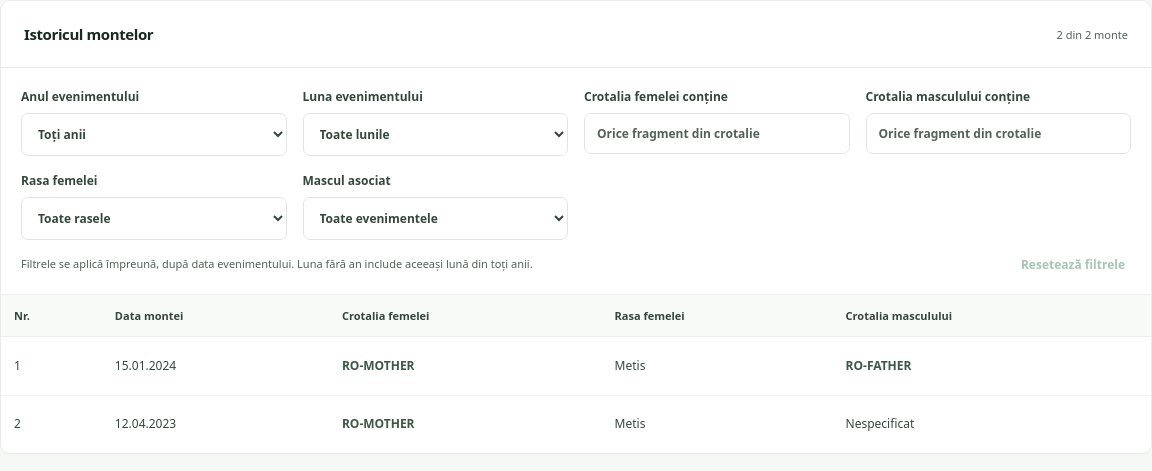
it: reproduction history interface › filters inseminations by sire association and keeps actions unavailable to viewers
Select "Fără mascul specificat" in the dropdown labelled "Mascul asociat" at (435, 218), box [302,197,568,240]
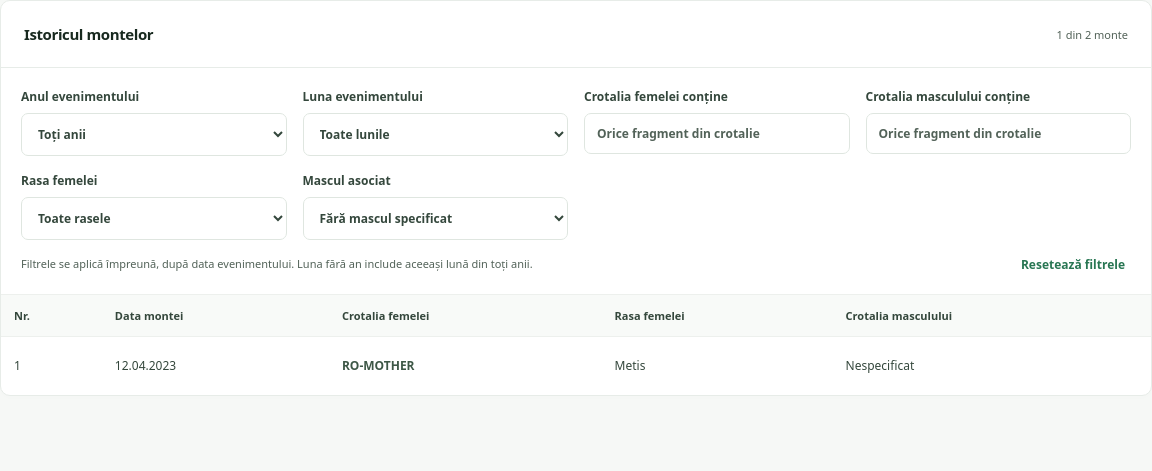
Expected: the text "Nespecificat" is shown, [832,337,1151,395]
Result: the number of rows is 2 at [1,294,1151,336]; [1,337,1151,395]
Result: the button "RO-FATHER" is gone
